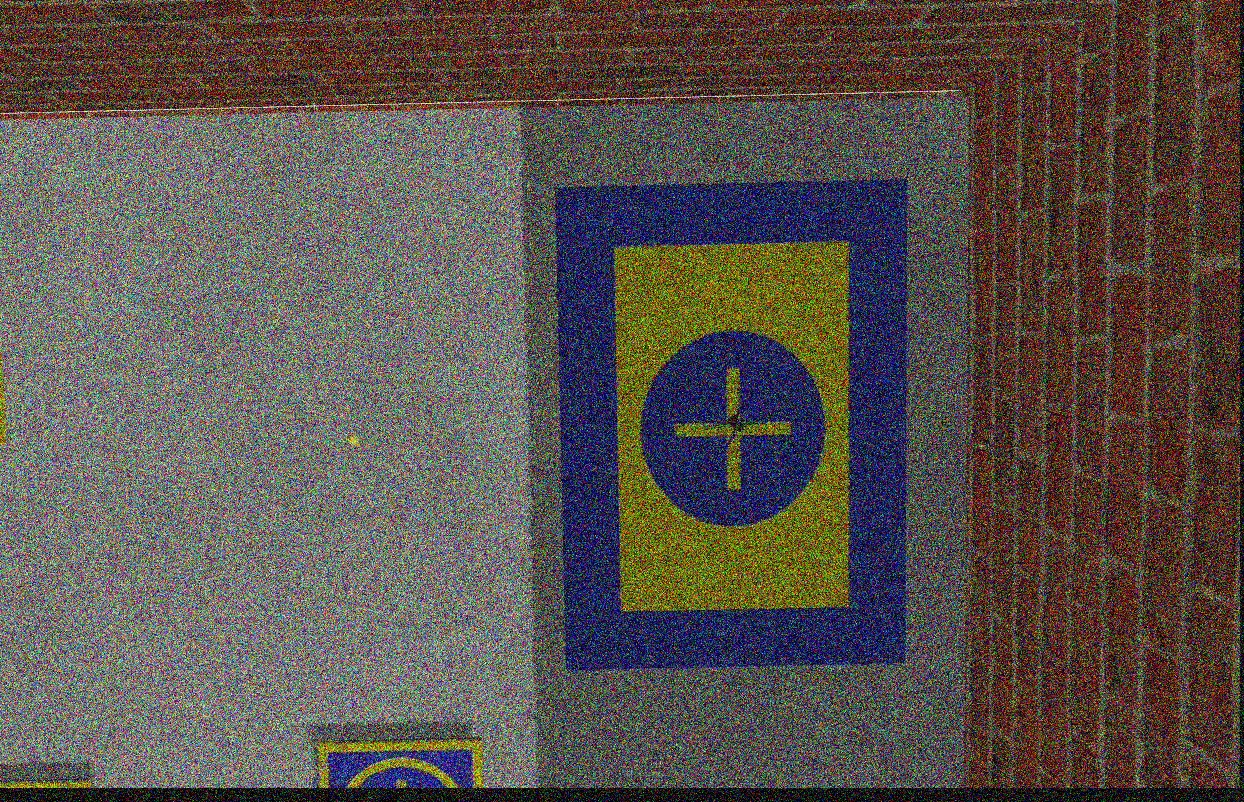large_base: (553, 179, 907, 670)
small_base: (317, 738, 487, 793)
